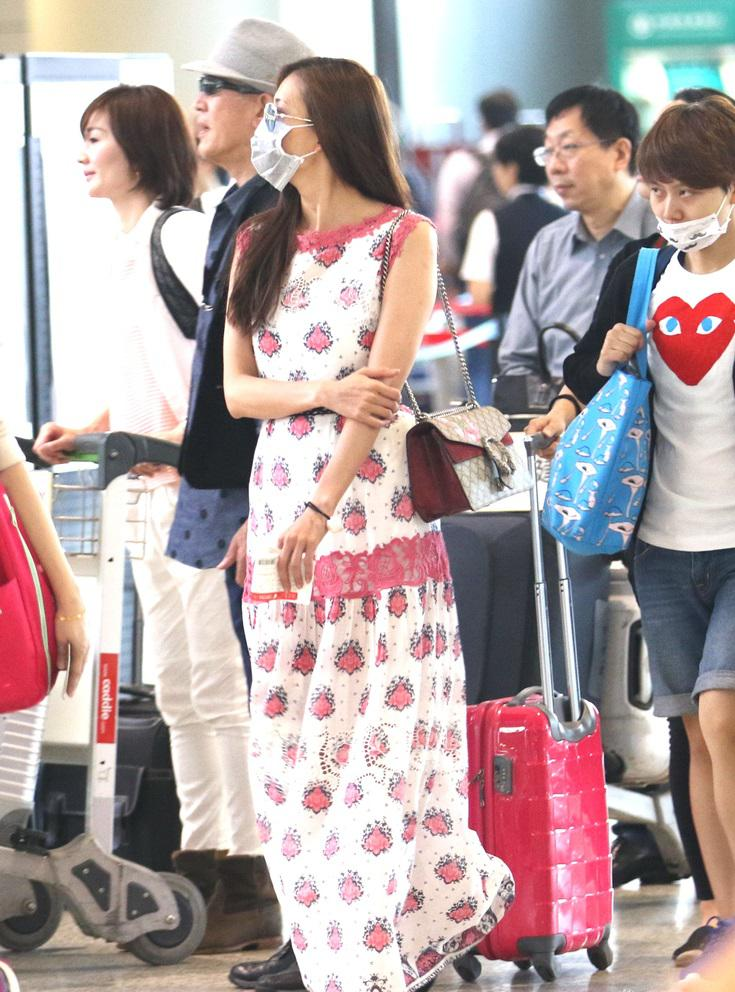NONE: (195, 81, 273, 163), (539, 134, 618, 209), (79, 131, 144, 199)
OK: (249, 94, 331, 196)
WRONG: (649, 169, 728, 248)
